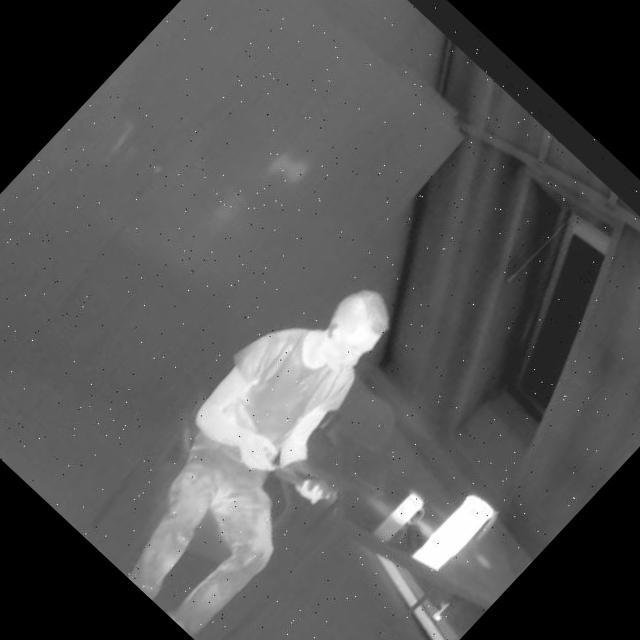person: (74, 245, 469, 640)
